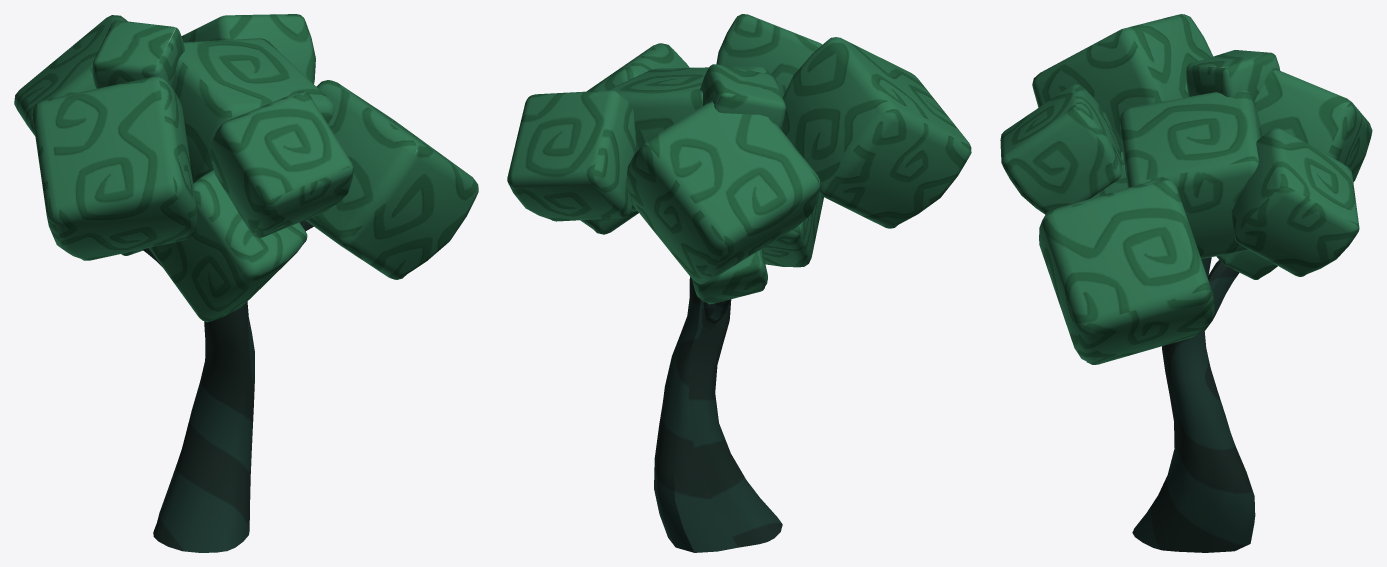
3 renders of one model, left to right at view 1: azimuth 30°, elevation 25°; view 2: azimuth 150°, elevation 25°; view 3: azimuth 270°, elevation 25°, orthographic. The views are drawn at different scales.
Visible parts, largest first — view 1: Default; view 2: Default; view 3: Default.
Boxes of the visible parts, x1=… form: Default: x1=14, y1=14, x2=478, y2=552; Default: x1=507, y1=14, x2=971, y2=552; Default: x1=1000, y1=14, x2=1372, y2=552.
Bounding box in the file's own units: 161 × 179 × 129.
1 material, 1 textured.
